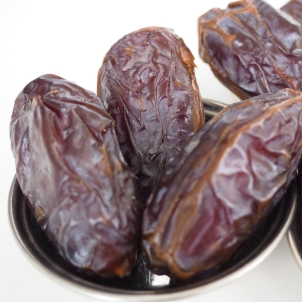hurmaa: (5, 66, 141, 284)
